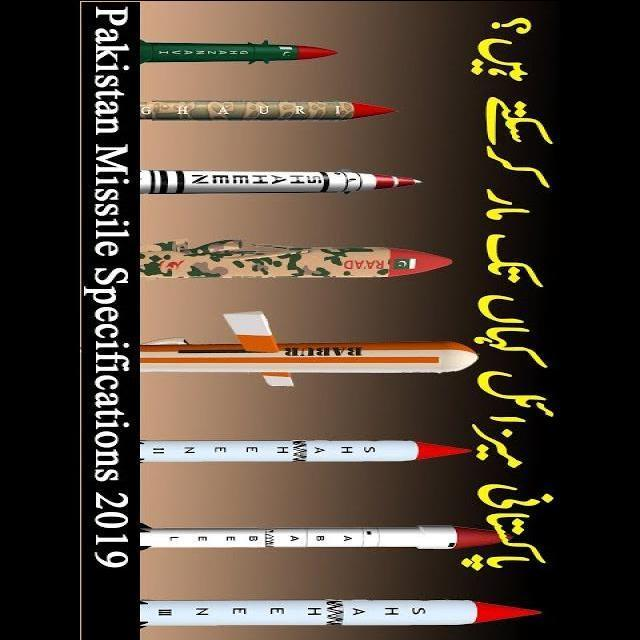Missile: (137, 334, 473, 380), (140, 239, 458, 283), (133, 597, 548, 629), (140, 433, 475, 467), (143, 523, 523, 552), (140, 167, 423, 196), (135, 98, 397, 124), (138, 39, 338, 64)
